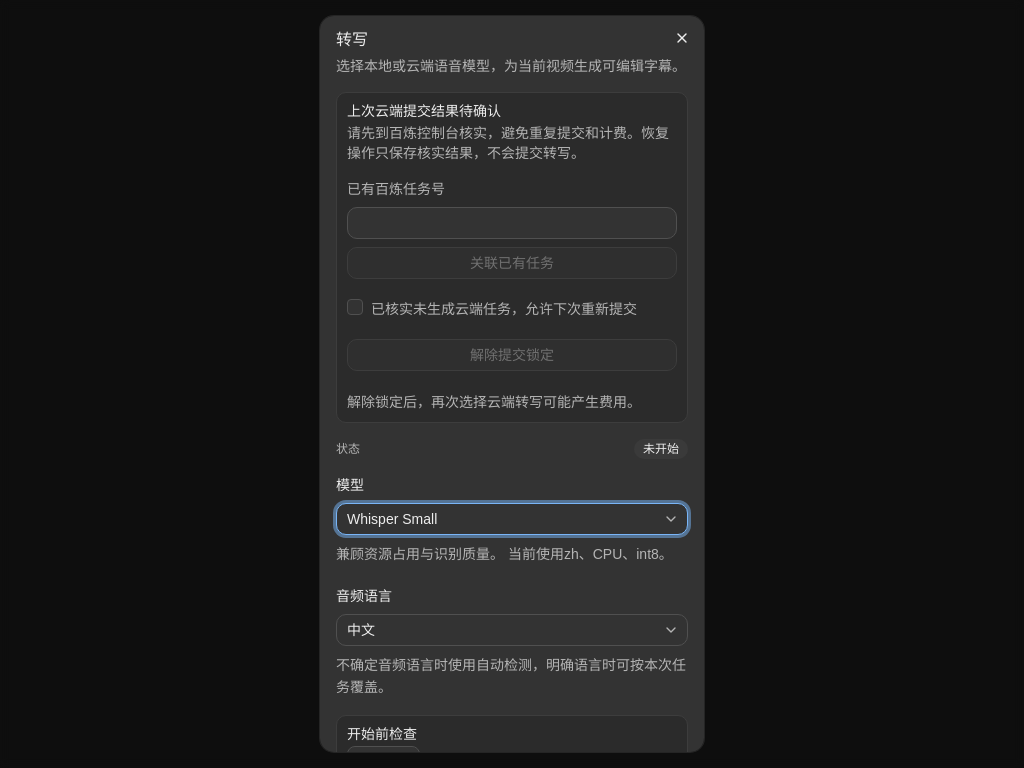
Test case: TranscriptionDialog › requires explicit verification before unlocking an unknown cloud submission
This screenshot has width=1024, height=768.
Expected: the text "上次云端提交结果待确认" is shown, [347, 103, 501, 119]
Expected: the button "解除提交锁定" is disabled, [347, 339, 677, 371]
Click the checkbox named "已核实未生成云端任务，允许下次重新提交" at (355, 307), box [347, 299, 363, 315]
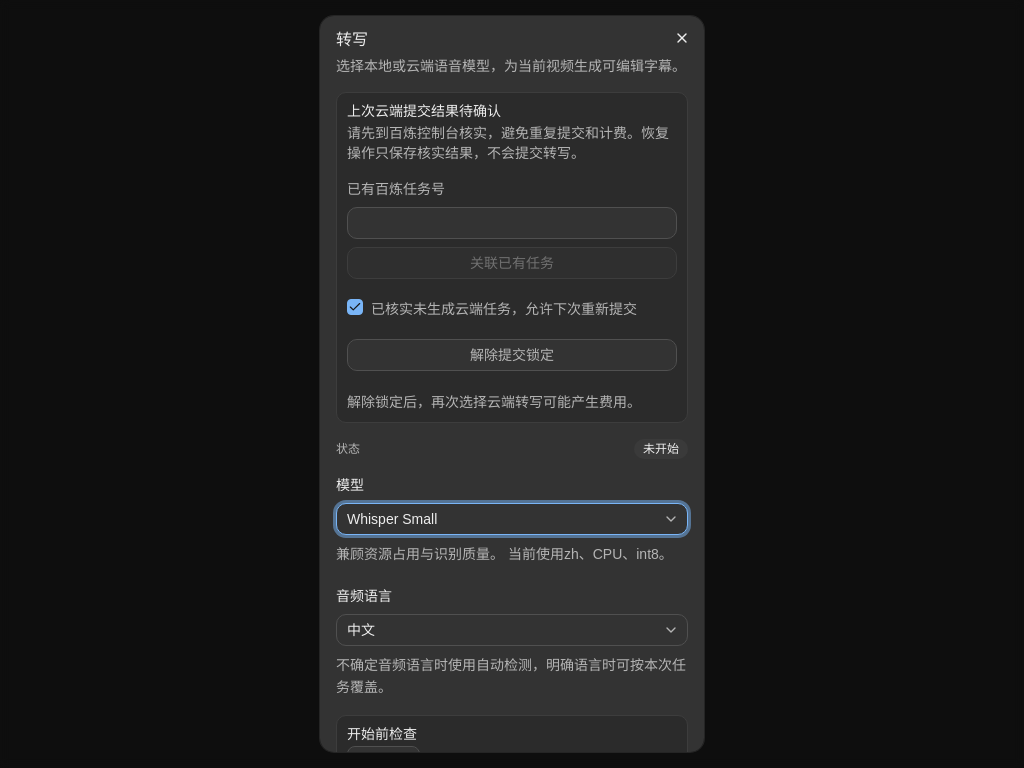
Click the button "解除提交锁定" at (512, 355), box [347, 339, 677, 371]
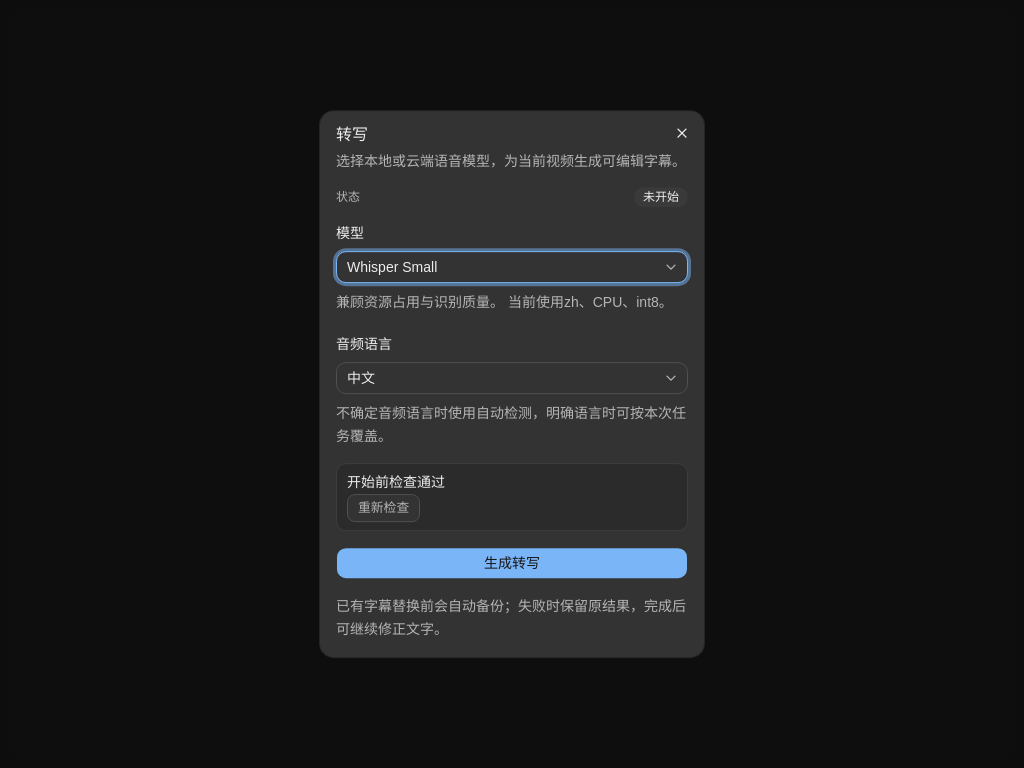
Now the button "生成转写" is enabled, box [336, 547, 688, 579]
